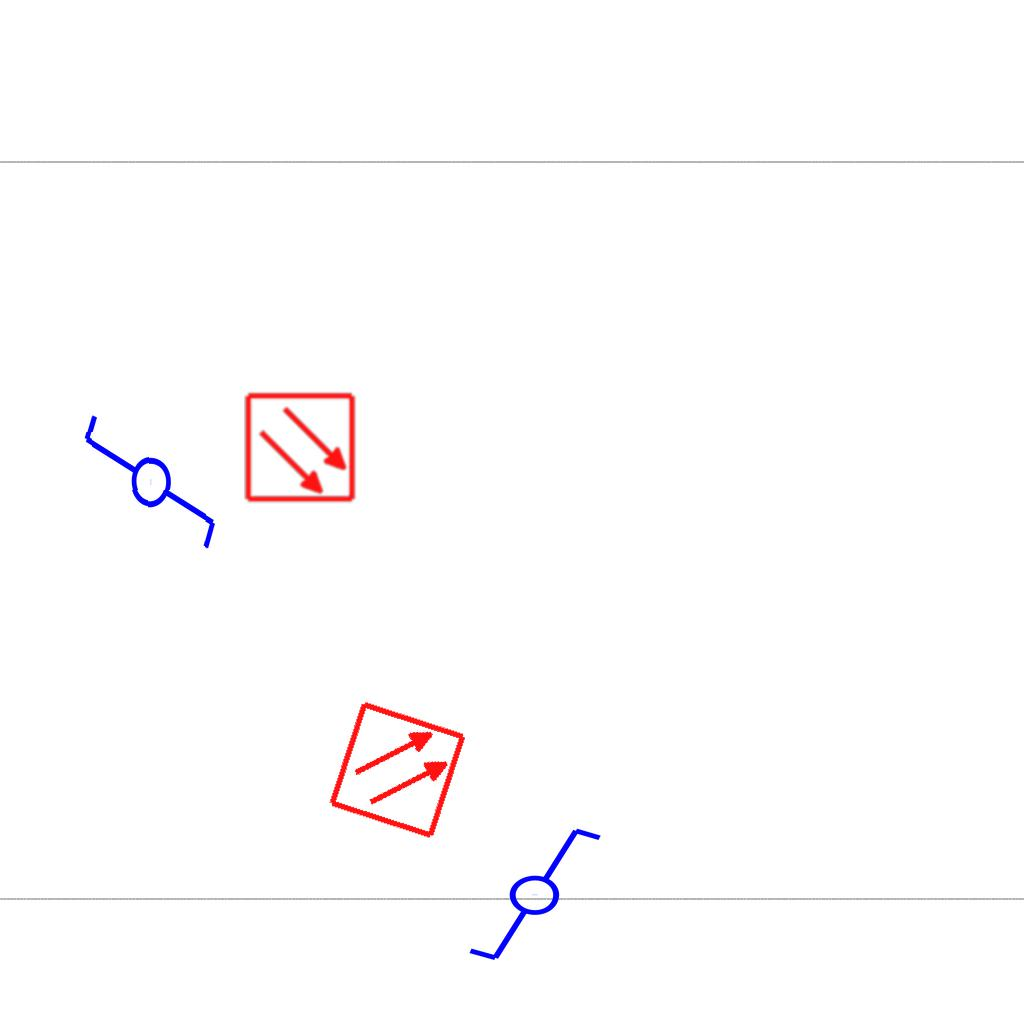RMO_Rauchmelder_optischer: (326, 698, 469, 841), (244, 391, 357, 504)
Wechselschalter: (75, 410, 222, 570), (448, 821, 605, 965)
